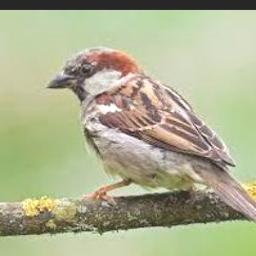Sparrow: (45, 47, 256, 230)
